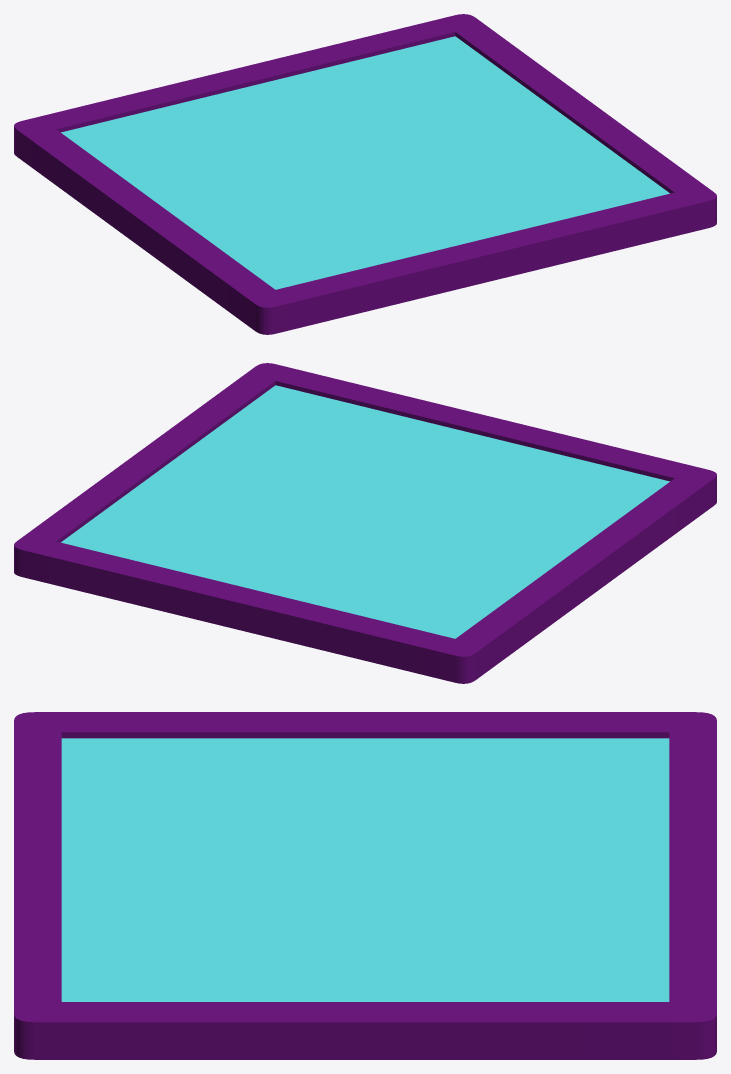
File: Ajedrez.fbx
The picture shows the model from 3 angles, top to bottom: view 1: azimuth 30°, elevation 25°; view 2: azimuth 150°, elevation 25°; view 3: azimuth 270°, elevation 25°; orthographic projection. The views are drawn at different scales.
Visible parts, largest first — view 1: Object008, Box047; view 2: Object008, Box047; view 3: Object008, Box047.
Boxes of the visible parts, bbox=[...] form: Object008: bbox=[61, 36, 669, 289]; Box047: bbox=[14, 14, 716, 334]; Object008: bbox=[61, 385, 669, 638]; Box047: bbox=[14, 363, 716, 683]; Object008: bbox=[61, 738, 669, 1001]; Box047: bbox=[14, 712, 716, 1059].
Size of the model in its own units: 10.19 by 0.5766 by 9.77.
